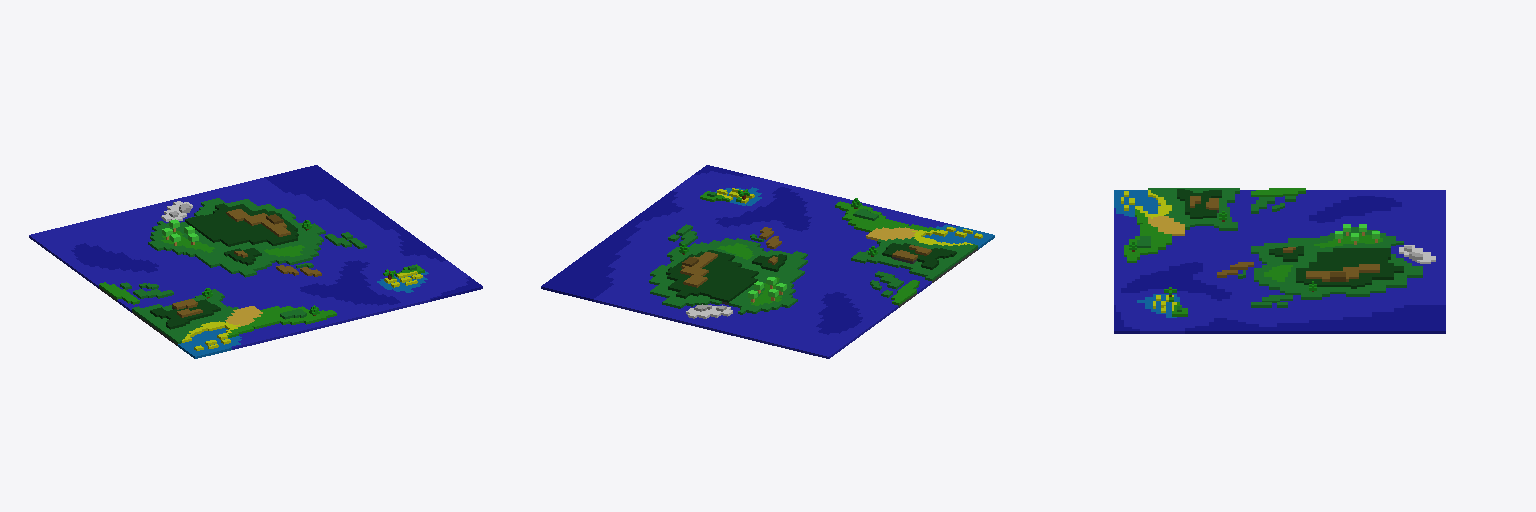
The picture shows the model from 3 angles: view 1: azimuth 30°, elevation 25°; view 2: azimuth 150°, elevation 25°; view 3: azimuth 270°, elevation 25°; orthographic projection.
Size of the model in its own units: 126 by 6 by 126.
1 materials, 1 textured.